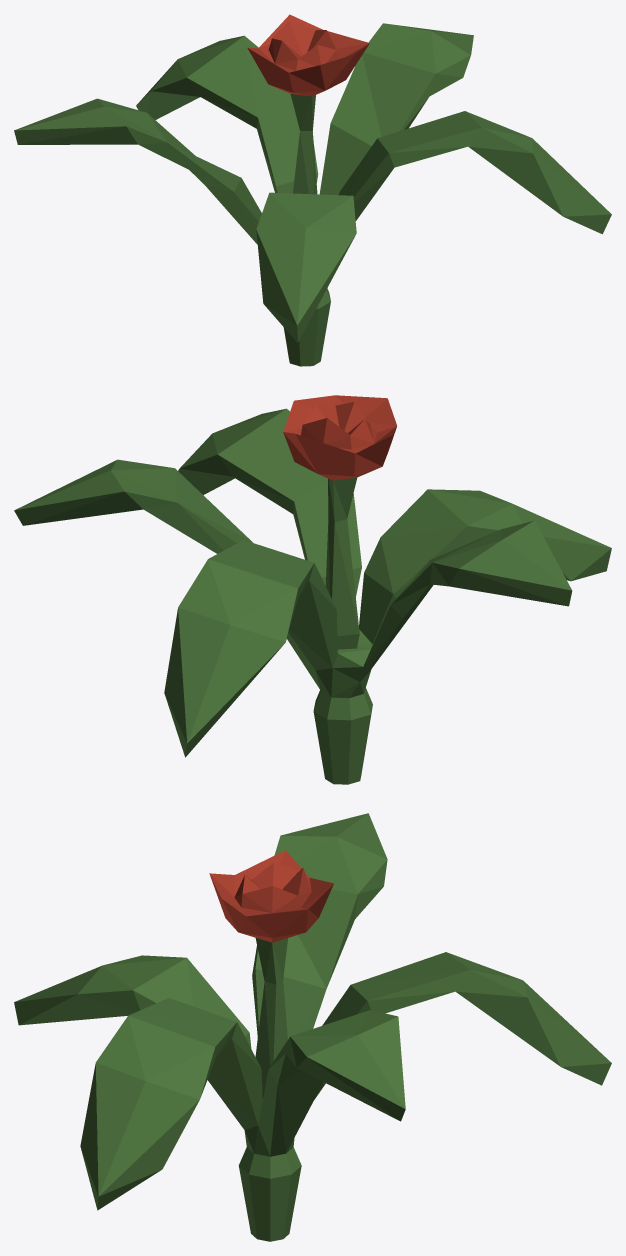
File: SM_Env_Flower_04.glb
The picture shows the model from 3 angles, top to bottom: view 1: azimuth 30°, elevation 25°; view 2: azimuth 150°, elevation 25°; view 3: azimuth 270°, elevation 25°; orthographic projection. The views are drawn at different scales.
Parts seen in each view (by area): view 1: SM_Env_Plant_04; view 2: SM_Env_Plant_04; view 3: SM_Env_Plant_04.
Part boxes in pixels (left/top/right/bottom): SM_Env_Plant_04: left=14, top=14, right=611, bottom=366; SM_Env_Plant_04: left=14, top=395, right=611, bottom=784; SM_Env_Plant_04: left=14, top=813, right=611, bottom=1241.
Size of the model in its own units: 85.51 by 56.28 by 83.35.
Materials: 1 (1 with a texture image).
